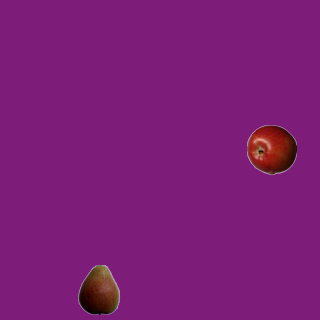Apple Braeburn: (246, 124, 296, 174)
Pear Forelle: (73, 264, 123, 314)
